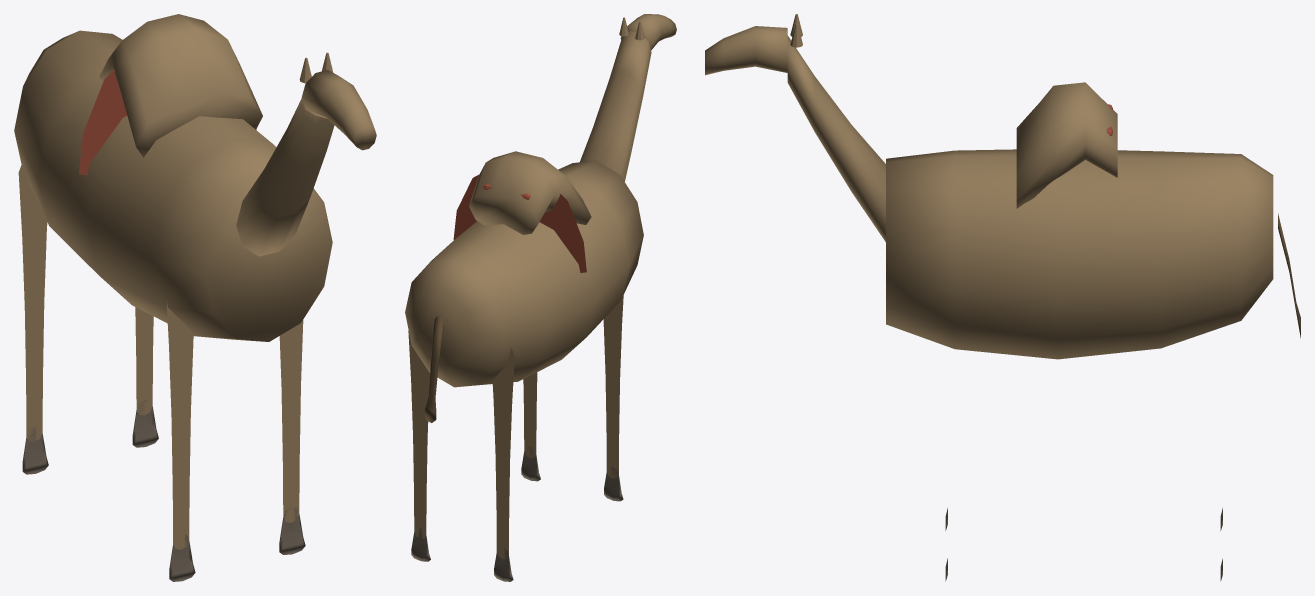
Rendered from camel.glb.
3 views of the same model, side by side, from view 1: azimuth 30°, elevation 25°; view 2: azimuth 150°, elevation 25°; view 3: azimuth 270°, elevation 25° (orthographic). The views are drawn at different scales.
Parts seen in each view (by area): view 1: torso, hump, neck, legBL, legFL, legFR, head, legBR, saddleskirt; view 2: torso, hump, neck, legBL, legBR, legFL, saddleskirt, legFR, tail, head; view 3: torso, hump, neck, head.
Part boxes in pixels (x1,y1,x2,y2): torso: [14, 30, 332, 341]; hump: [99, 14, 262, 157]; neck: [236, 98, 334, 256]; legBL: [18, 160, 48, 474]; legFL: [166, 300, 195, 581]; legFR: [279, 320, 305, 554]; head: [301, 70, 376, 150]; legBR: [132, 307, 158, 447]; saddleskirt: [79, 70, 256, 175]; torso: [405, 160, 643, 387]; hump: [469, 151, 591, 234]; neck: [580, 31, 651, 181]; legBL: [492, 347, 514, 581]; legBR: [408, 331, 430, 561]; legFL: [603, 292, 623, 501]; saddleskirt: [453, 174, 586, 272]; legFR: [521, 372, 540, 481]; tail: [424, 316, 443, 422]; head: [620, 14, 676, 50]; torso: [886, 149, 1273, 359]; hump: [1016, 82, 1117, 208]; neck: [787, 35, 885, 241]; head: [705, 26, 787, 75].
Bounding box in the file's own units: 0.86 × 2.57 × 2.6.
